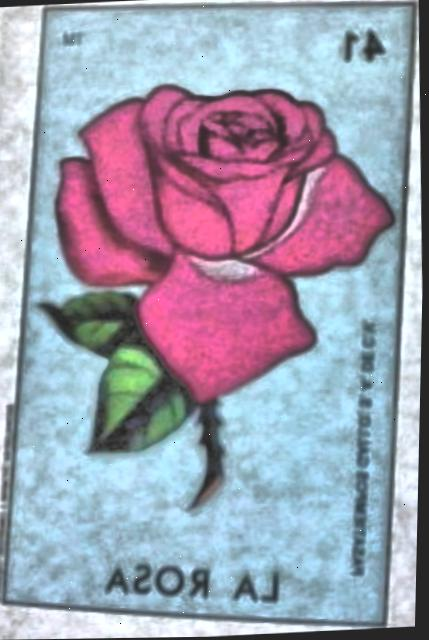La Rosa: (4, 6, 403, 623)
